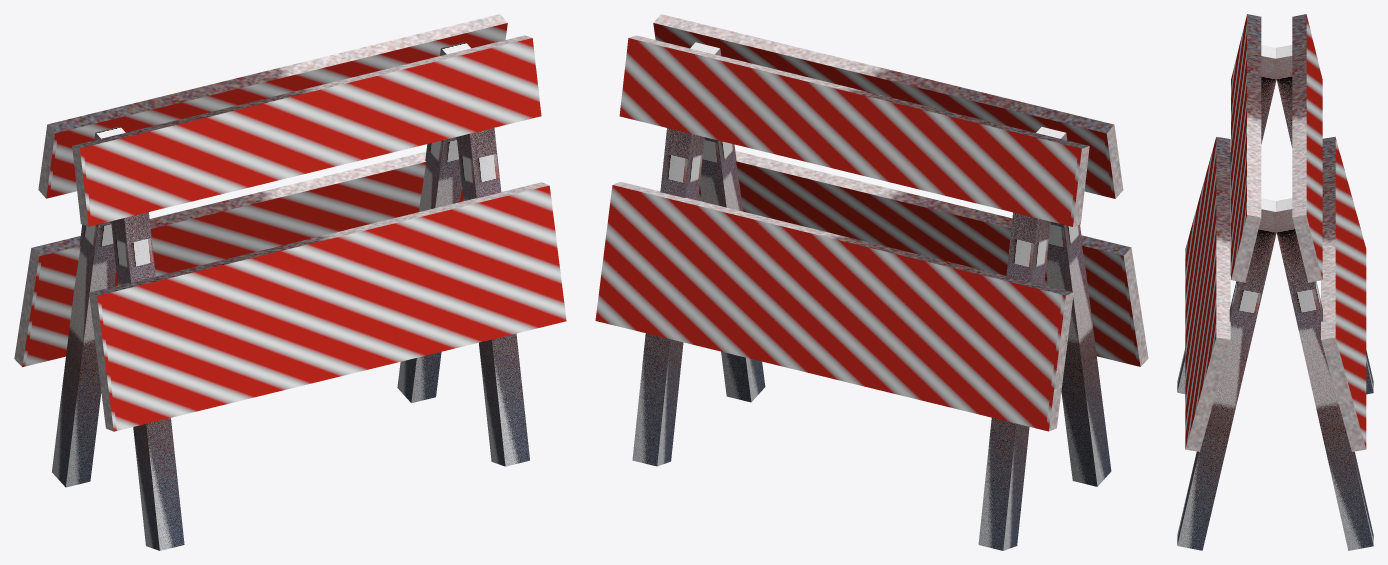
Rendered from redWhiteWood.fbx.
3 views of the same model, side by side, from view 1: azimuth 30°, elevation 25°; view 2: azimuth 150°, elevation 25°; view 3: azimuth 270°, elevation 25° (orthographic). The views are drawn at different scales.
Visible parts, largest first — view 1: redWhiteWood_001; view 2: redWhiteWood_001; view 3: redWhiteWood_001.
Part boxes in pixels (left/top/right/bottom): redWhiteWood_001: left=14, top=14, right=566, bottom=550; redWhiteWood_001: left=595, top=14, right=1148, bottom=550; redWhiteWood_001: left=1177, top=14, right=1373, bottom=550.
Bounding box in the file's own units: 0.7361 × 0.606 × 0.3044.
